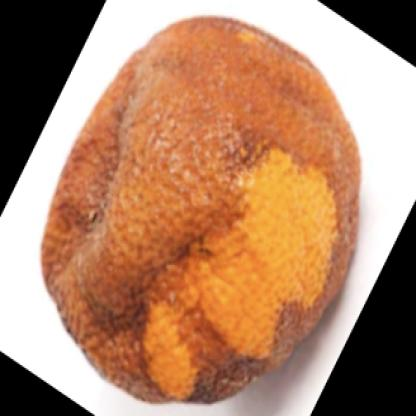rotten: (39, 19, 363, 406)
